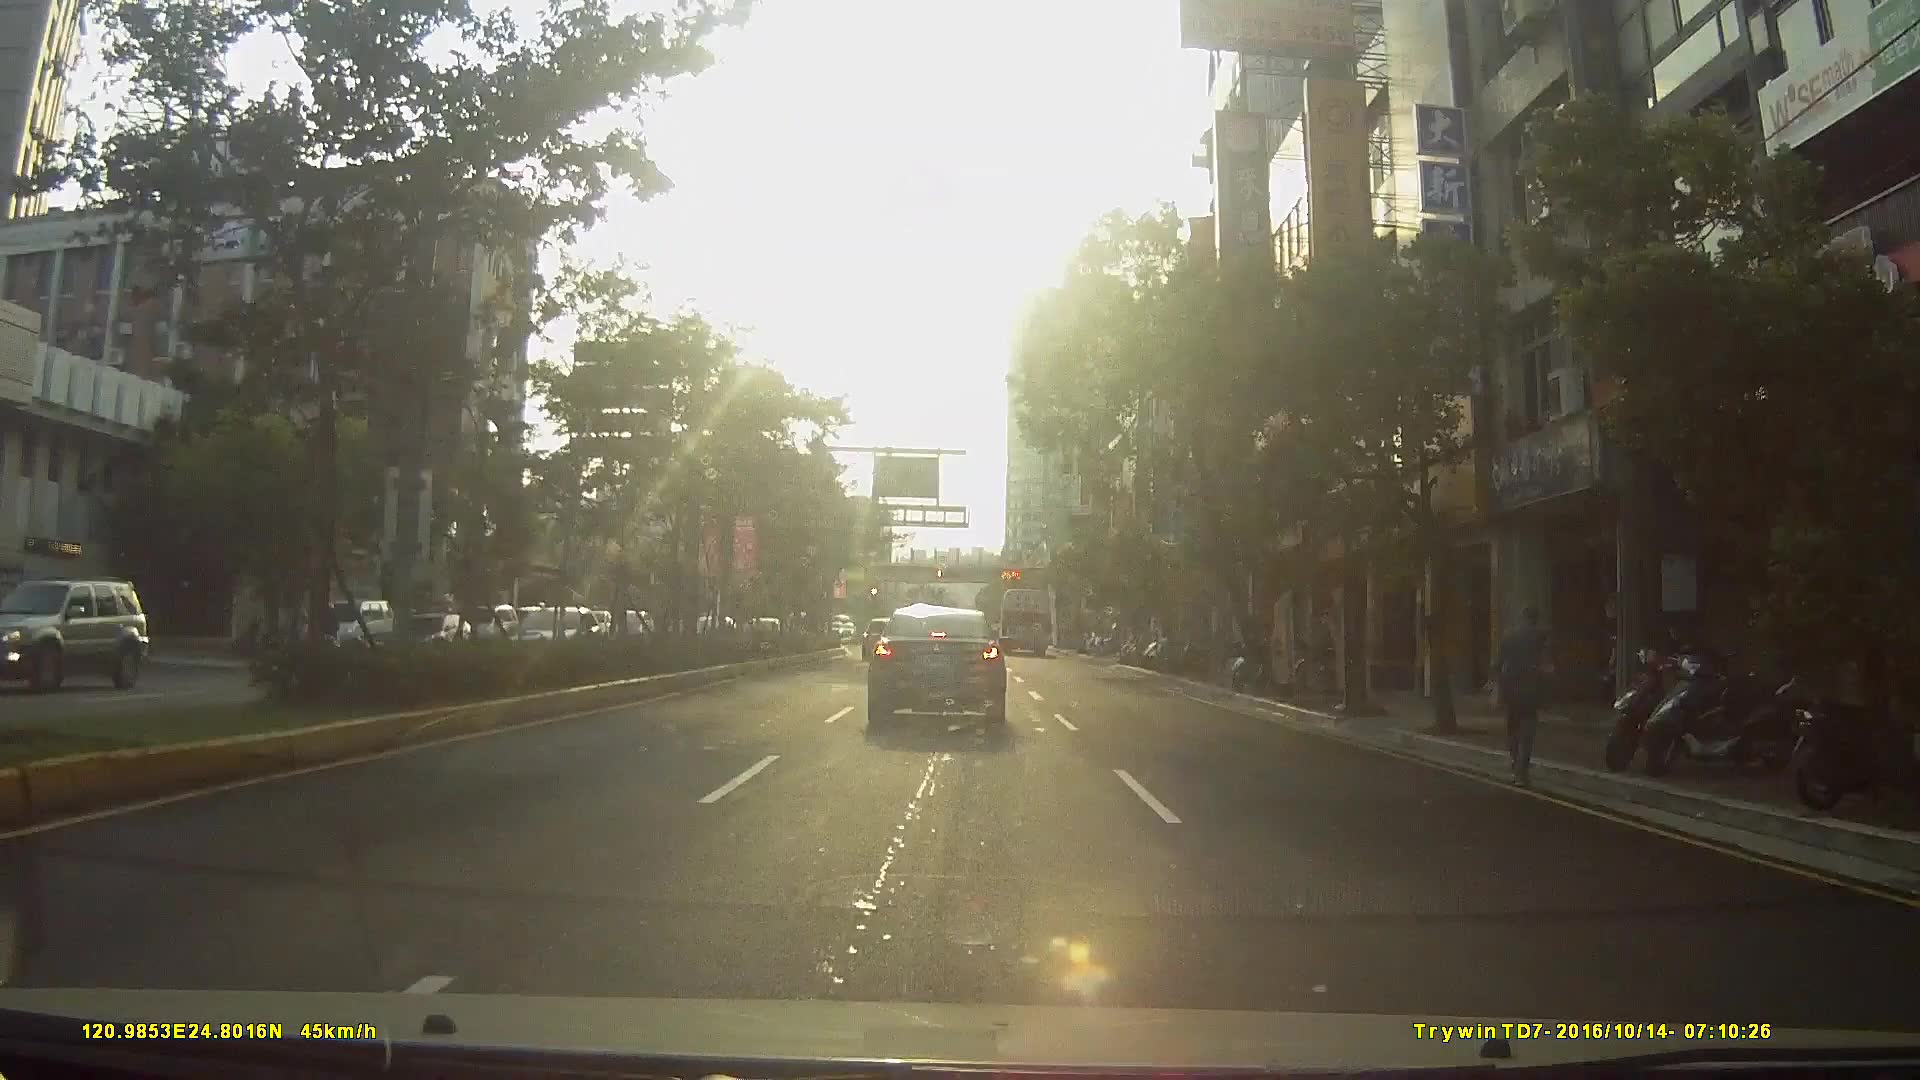pedestrian: (1496, 607, 1558, 790)
vehicle: (1, 576, 158, 710), (864, 608, 1006, 730), (296, 598, 392, 660), (995, 589, 1052, 656)
